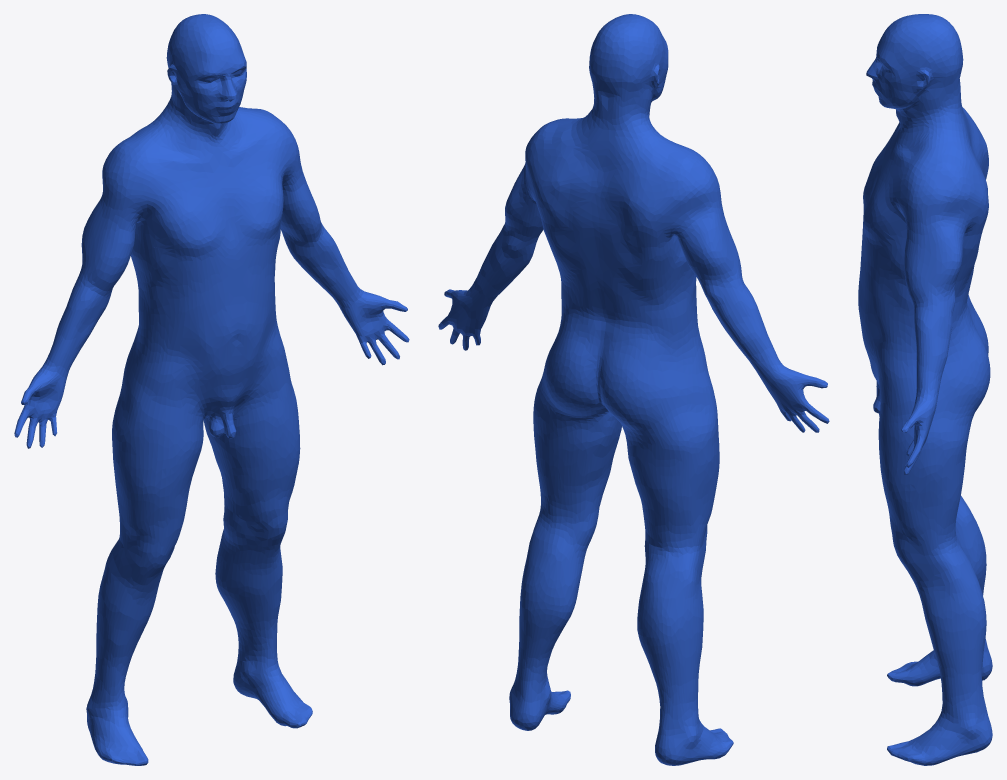
Rendered from VH_M_Skin_0.1.glb.
The picture shows the model from 3 angles, left to right: view 1: azimuth 30°, elevation 25°; view 2: azimuth 150°, elevation 25°; view 3: azimuth 270°, elevation 25°; orthographic projection. The views are drawn at different scales.
Visible parts, largest first — view 1: VH_M_skin; view 2: VH_M_skin; view 3: VH_M_skin.
Boxes of the visible parts, left/top/right/bottom form: VH_M_skin: left=14, top=14, right=409, bottom=765; VH_M_skin: left=438, top=14, right=829, bottom=765; VH_M_skin: left=858, top=14, right=992, bottom=765.
Size of the model in its own units: 1.05 by 1.83 by 0.3167.
